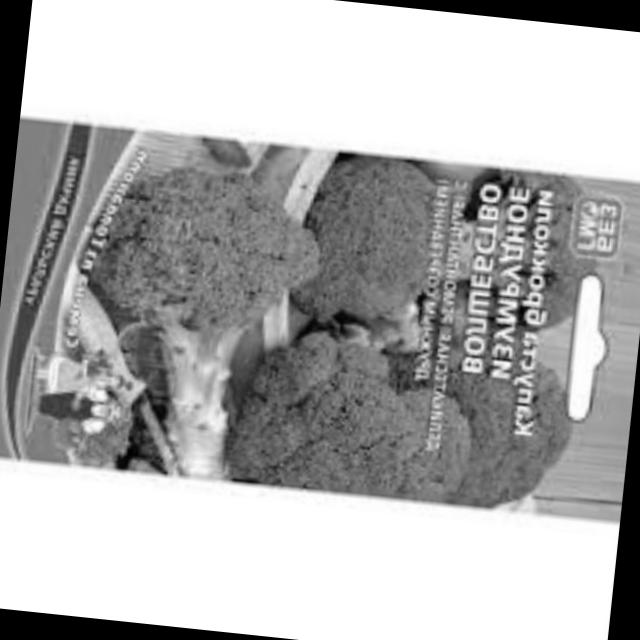bong cai xanh: (79, 128, 338, 410), (376, 299, 620, 524), (260, 340, 478, 536), (284, 132, 471, 336), (437, 144, 624, 332)
